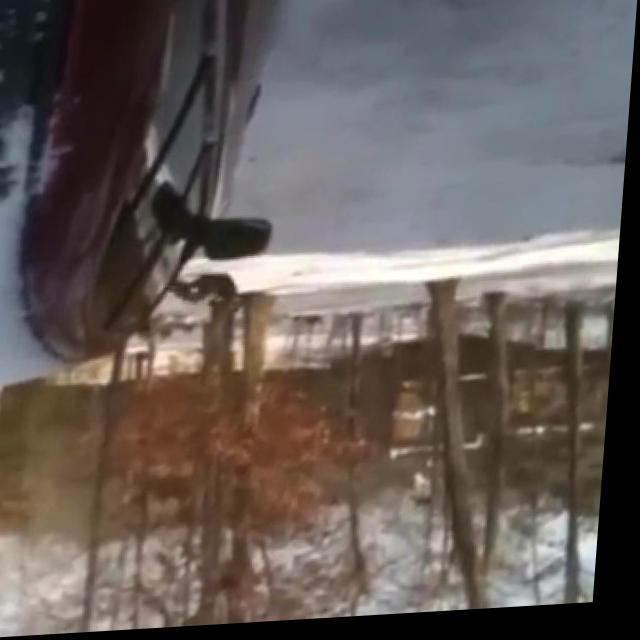fall: (167, 272, 243, 325)
